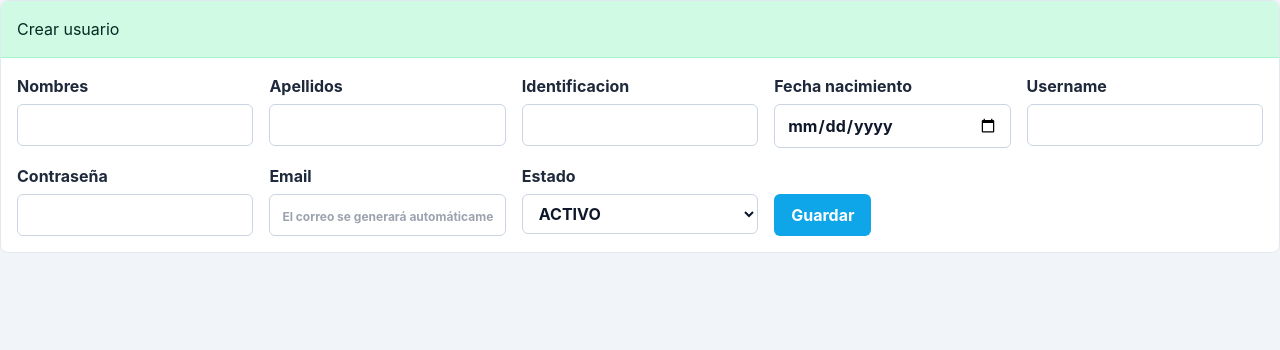
Scenario: UsuarioForm › no permite escribir email ni lo envia en el payload
Check: the field labelled "Email" is disabled, box [269, 194, 506, 236]
Type "Juan Alberto" into the field labelled "Nombres".
click(135, 125); type("Juan Alberto")  # box [17, 104, 253, 146]
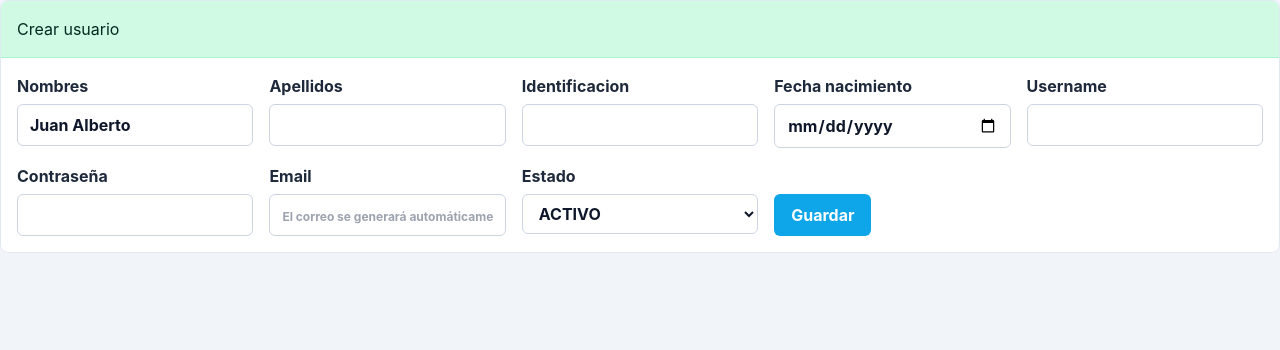
Type "Piguave Loor" into the field labelled "Apellidos".
click(388, 125); type("Piguave Loor")  # box [269, 104, 506, 146]
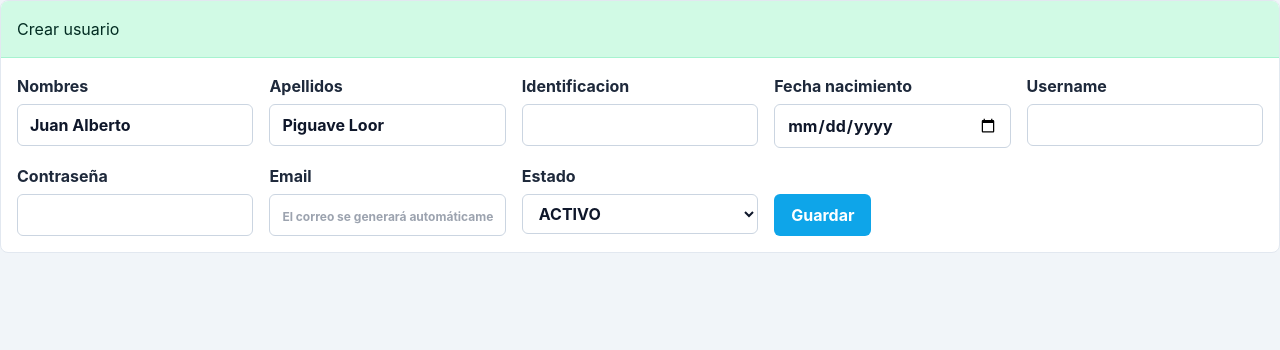
Type "1203574901" into the field labelled "Identificacion".
click(640, 125); type("1203574901")  # box [522, 104, 758, 146]
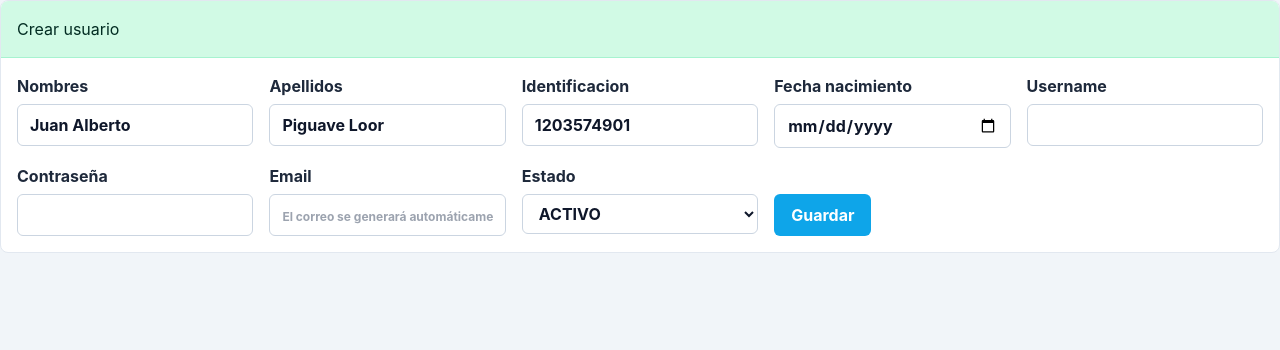
Type "Juan2024A" into the field labelled "Username".
click(1145, 125); type("Juan2024A")  # box [1027, 104, 1263, 146]
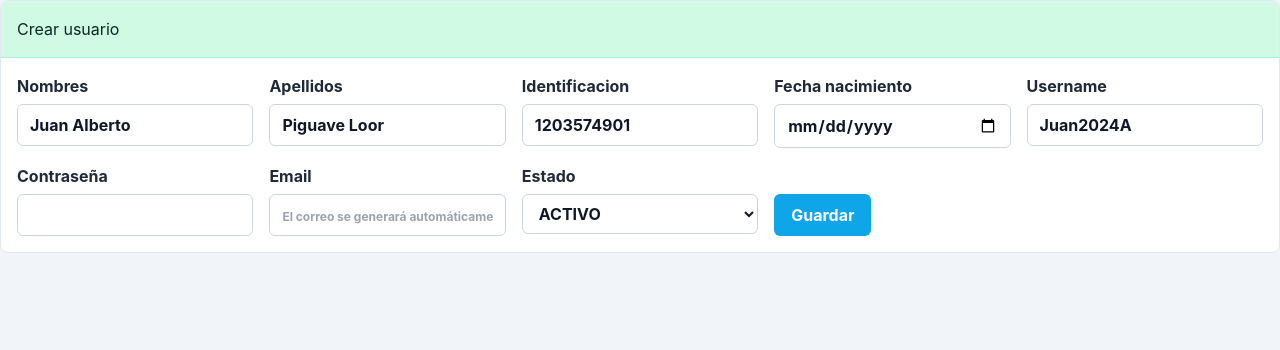
Type "Clave@123" into the password field labelled "Contraseña".
click(135, 215); type("Clave@123")  # box [17, 194, 253, 236]
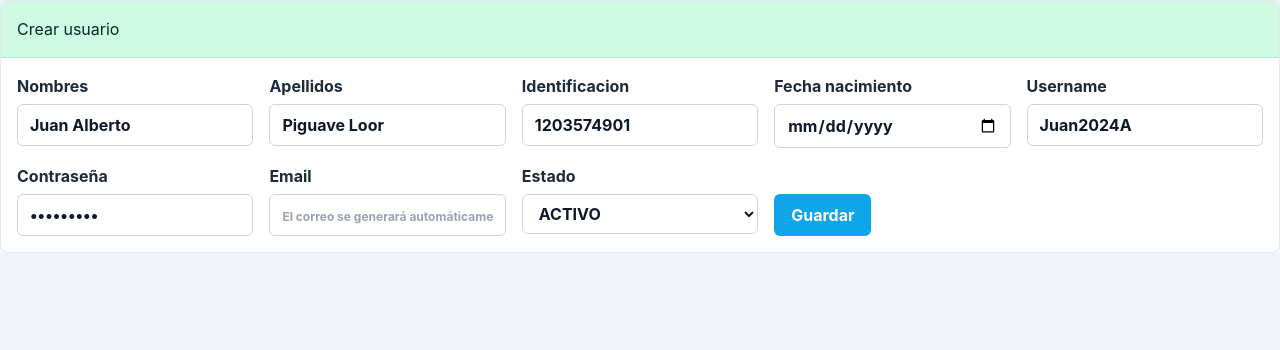
Click the button with aria-label "guardar usuario".
click(823, 215)  # box [774, 194, 872, 236]
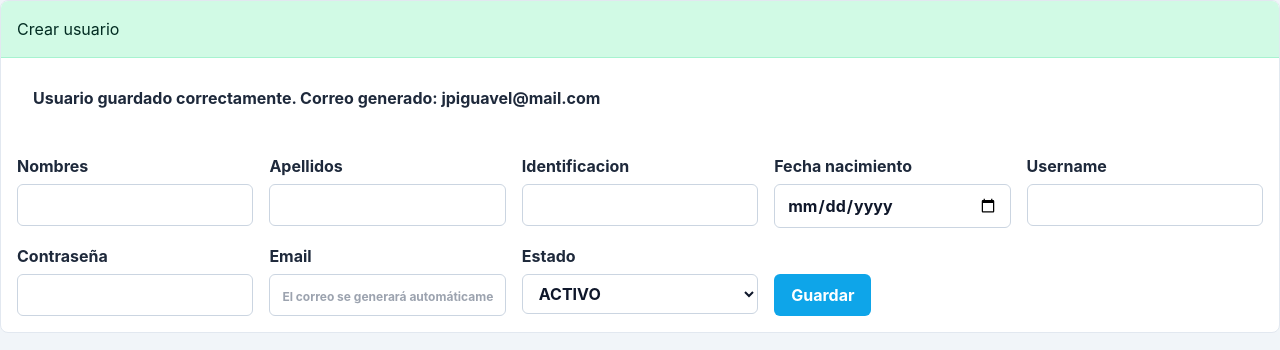
Check: the text "Correo generado: jpiguavel@mail.com" is shown, box [33, 88, 600, 108]
